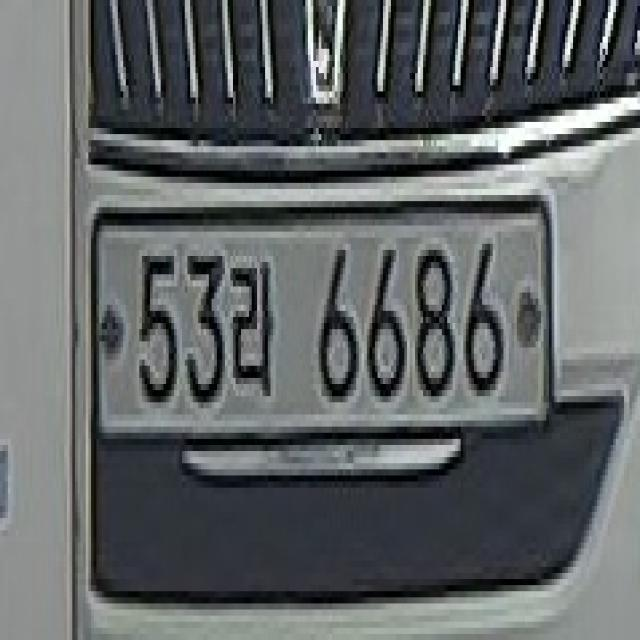3: (176, 244, 228, 421)
5: (131, 238, 185, 439)
6: (464, 244, 520, 408), (362, 232, 409, 414), (316, 238, 361, 420)
8: (412, 244, 466, 396)
la: (222, 244, 276, 408)
license_plate: (86, 189, 557, 445)
